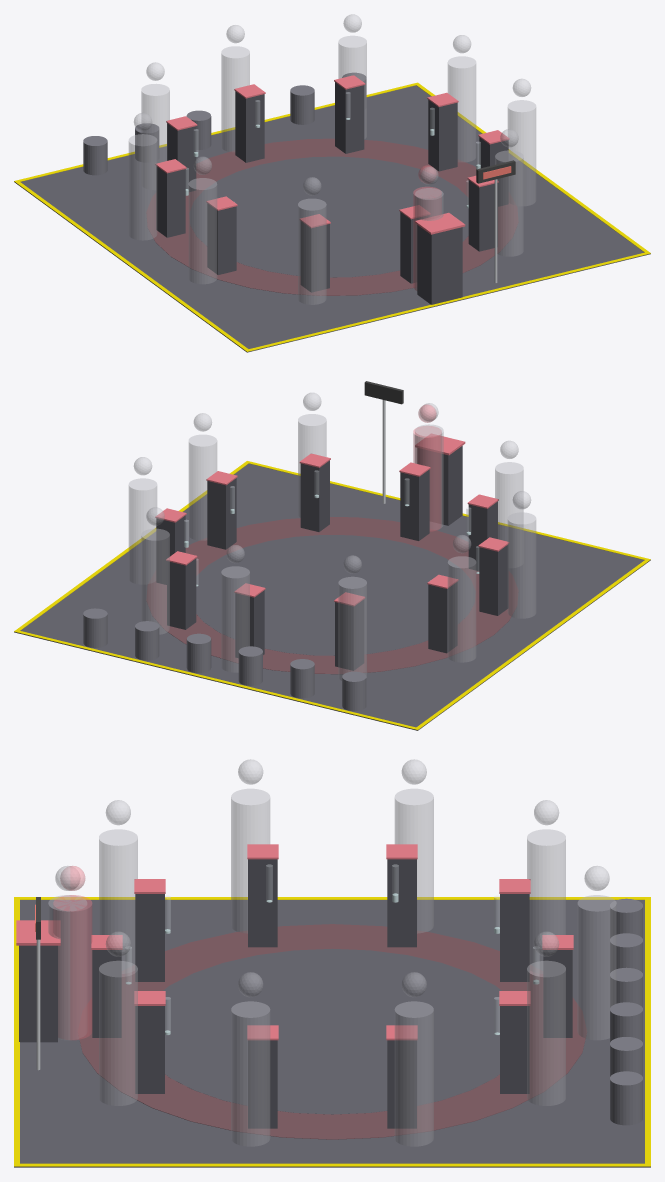
Rendered from G06_THE_STRANGER.glb.
3 renders of one model, top to bottom at view 1: azimuth 30°, elevation 25°; view 2: azimuth 150°, elevation 25°; view 3: azimuth 270°, elevation 25°, orthographic. The views are drawn at different scales.
Parts seen in each view (by area): view 1: floor_area, floor_circle_inner, floor_circle, operator_lectern, player_7_body, player_8_body, player_9_body, player_2_body, player_1_body, player_6_body, player_3_body, player_5_body (+22 smaller); view 2: floor_area, floor_circle_inner, floor_circle, player_7_body, player_8_body, player_3_body, player_4_body, player_6_body, player_5_body, player_9_body, operator_lectern, player_2_body (+25 smaller); view 3: floor_area, floor_circle_inner, floor_circle, player_2_body, player_3_body, player_1_body, player_4_body, player_5_body, operator_body, player_0_body, player_6_body, player_9_body (+25 smaller).
Boxes of the visible parts, x1,y1,x2,y2 form: floor_area: (14, 85, 650, 352); floor_circle_inner: (189, 156, 468, 277); floor_circle: (146, 138, 518, 295); operator_lectern: (417, 225, 462, 304); player_7_body: (128, 134, 157, 240); player_8_body: (188, 178, 217, 284); player_9_body: (298, 198, 326, 304); player_2_body: (507, 100, 536, 206); player_1_body: (495, 150, 523, 256); player_6_body: (141, 84, 169, 189); player_3_body: (447, 56, 476, 162); player_5_body: (221, 46, 249, 152); floor_area: (14, 463, 650, 730); floor_circle_inner: (196, 535, 475, 655); floor_circle: (146, 517, 518, 674); player_7_body: (447, 556, 476, 662); player_8_body: (507, 512, 536, 618); player_3_body: (128, 478, 157, 584); player_4_body: (141, 528, 169, 634); player_6_body: (338, 576, 366, 680); player_5_body: (221, 566, 249, 672); player_9_body: (495, 462, 523, 567); operator_lectern: (417, 446, 462, 525); player_2_body: (188, 434, 217, 540); floor_area: (14, 900, 650, 1167); floor_circle_inner: (163, 948, 501, 1114); floor_circle: (78, 924, 587, 1139); player_2_body: (231, 1001, 270, 1146); player_3_body: (394, 1001, 433, 1146); player_1_body: (99, 960, 137, 1105); player_4_body: (527, 960, 565, 1105); player_5_body: (577, 895, 616, 1040); operator_body: (53, 895, 92, 1040); player_0_body: (48, 895, 87, 1040); player_6_body: (527, 829, 565, 973); player_9_body: (99, 829, 137, 973).
Bounding box in the file's own units: 6.5 × 1.87 × 6.5.
